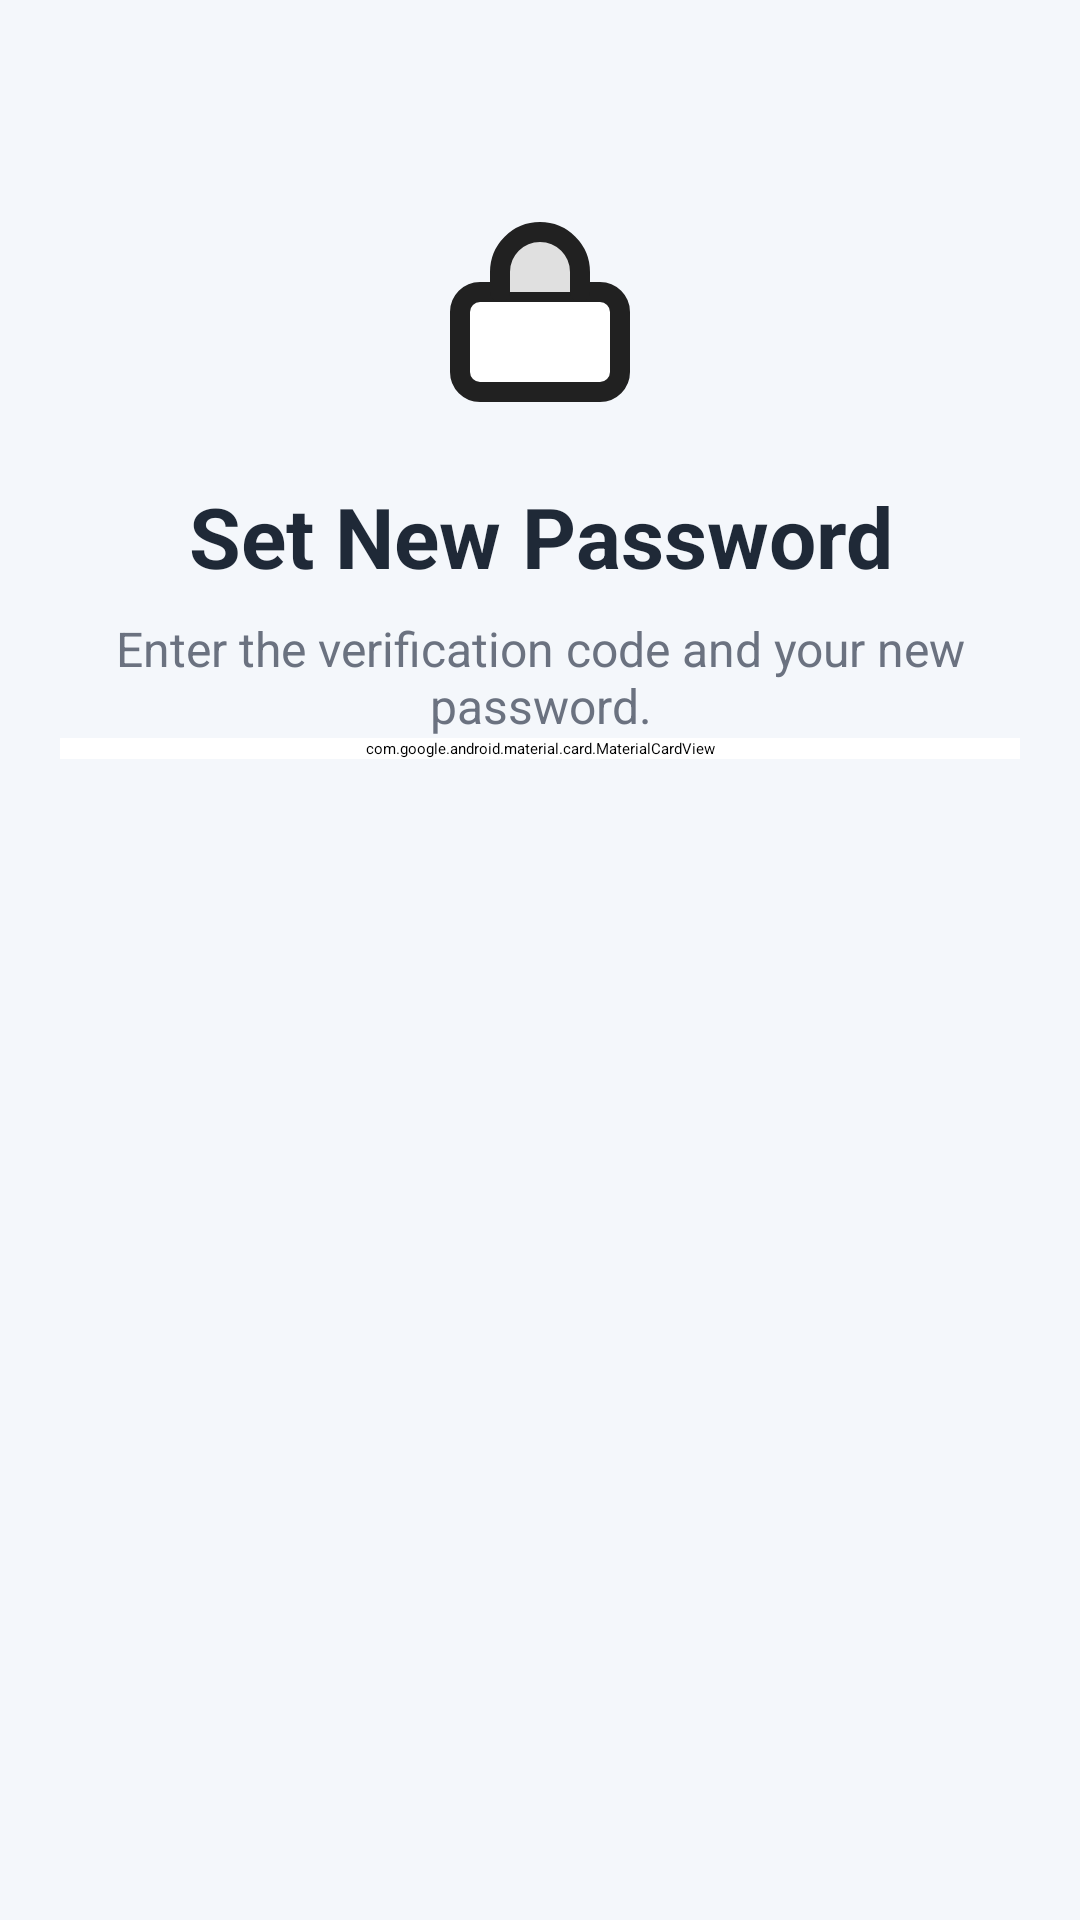

Named icons in this screenshot (1080 x 1920) and their bounding boxes, (x1, y1, x2, y2):
lock: (450, 222, 630, 402)
